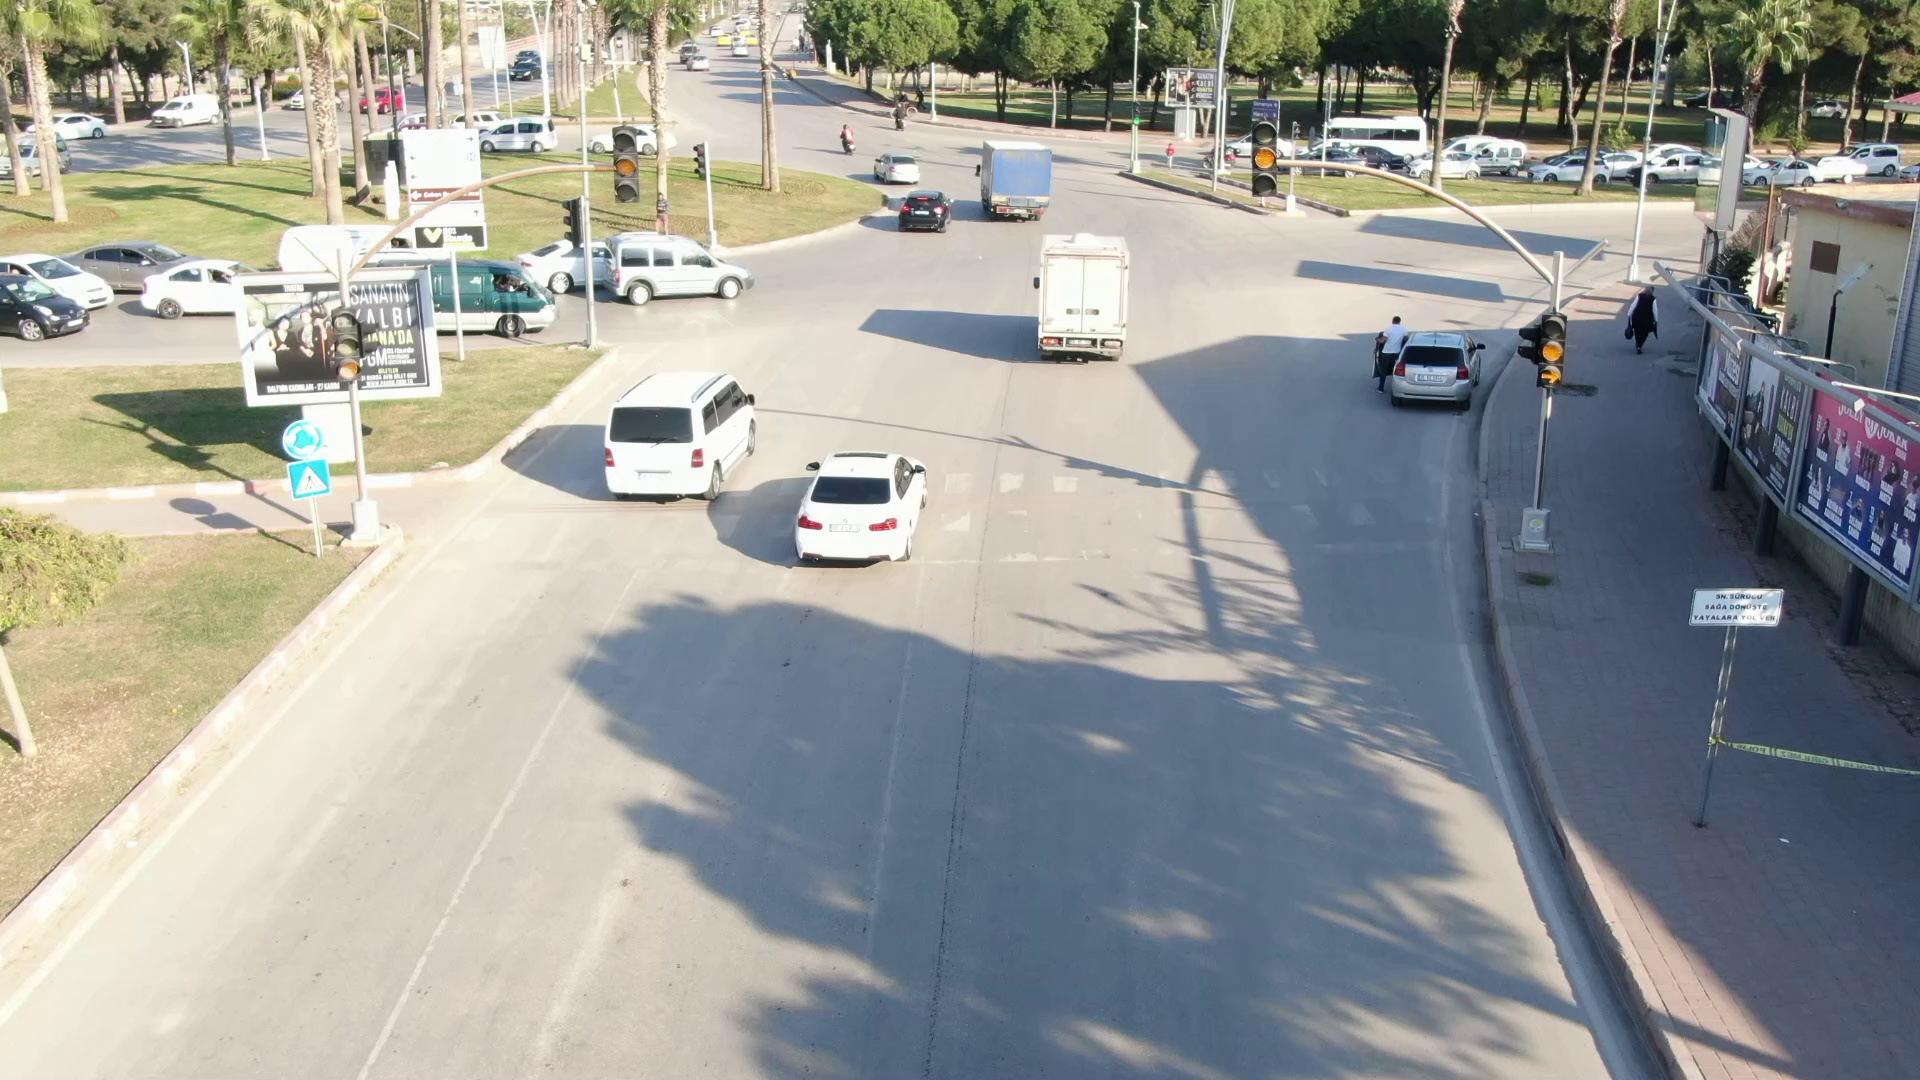car: (597, 355, 770, 511), (1021, 224, 1163, 373), (786, 441, 939, 575), (601, 227, 762, 313), (970, 133, 1073, 226), (1392, 323, 1498, 411), (890, 184, 966, 237), (866, 146, 922, 187)
person: (1367, 308, 1413, 407), (1614, 281, 1670, 357)
